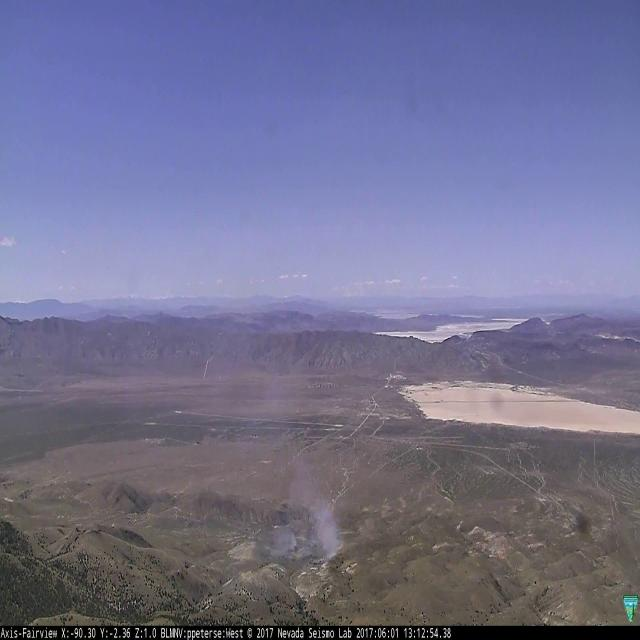smoke: (210, 312, 348, 561)
